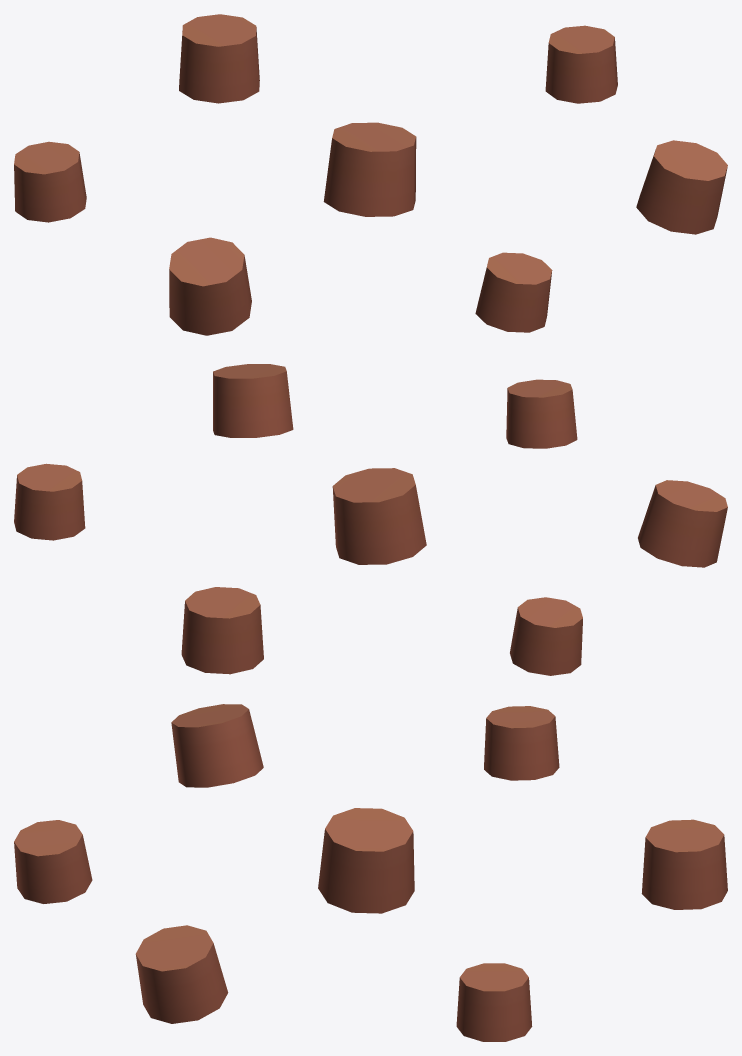
Rendered from kaykit-medieval-hexagon-pack-trees-b-cut.glb.
3 views of the same model, one above another, from view 1: azimuth 30°, elevation 25°; view 2: azimuth 150°, elevation 25°; view 3: azimuth 270°, elevation 25° (orthographic). The views are drawn at different scales.
Visible parts, largest first — view 1: trees_B_cut; view 2: trees_B_cut; view 3: trees_B_cut.
Part boxes in pixels (bbox=[...]): trees_B_cut: bbox=[14, 14, 727, 335]; trees_B_cut: bbox=[14, 364, 727, 675]; trees_B_cut: bbox=[14, 704, 727, 1041].
Bounding box in the file's own units: 1.4 × 0.1731 × 1.46.
1 material, 1 textured.
